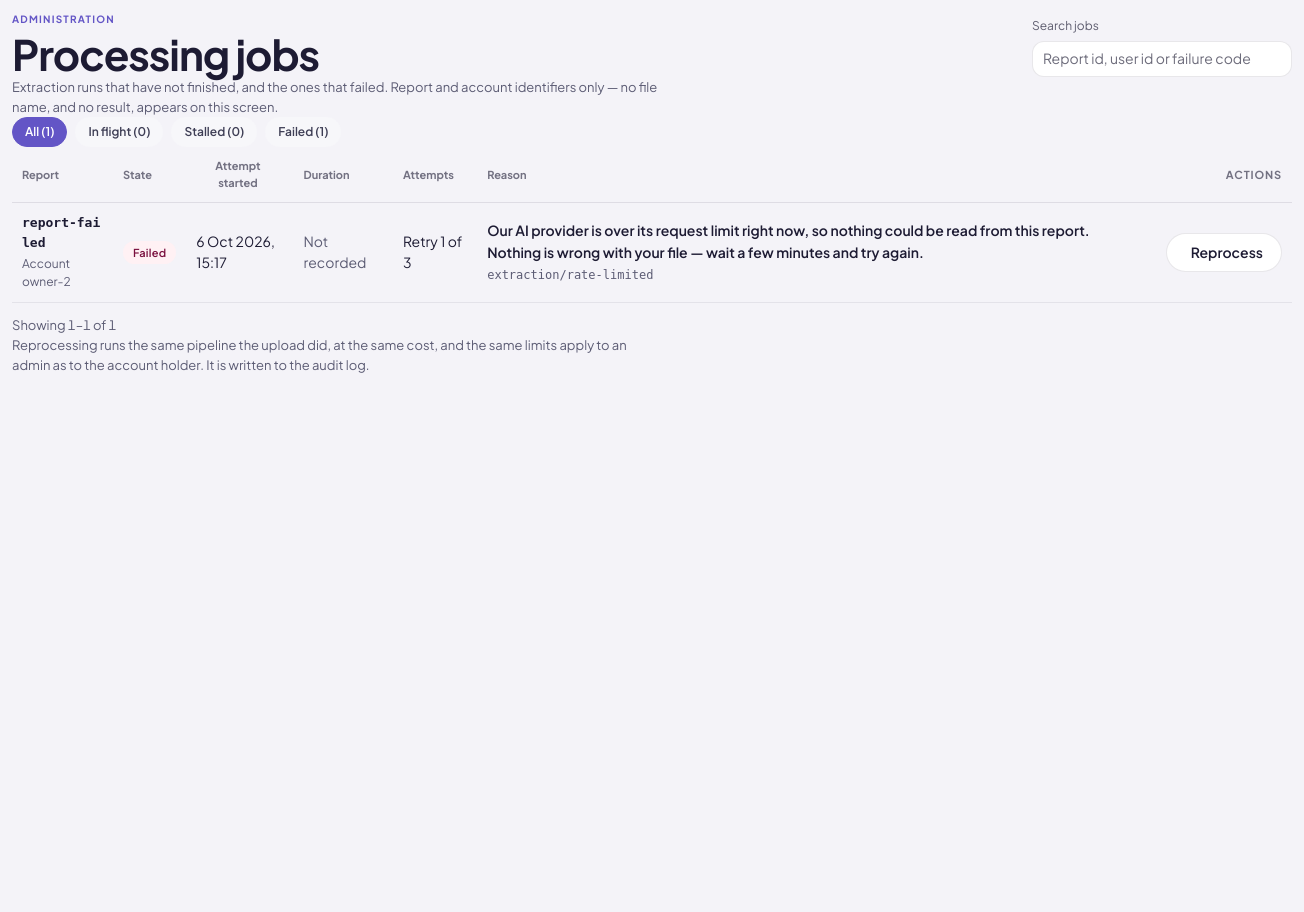
AdminJobs › passes the server’s own refusal through to the operator
Click the button with aria-label "Reprocess report report-failed".
click(1224, 252)  # box left=1166, top=233, right=1282, bottom=272
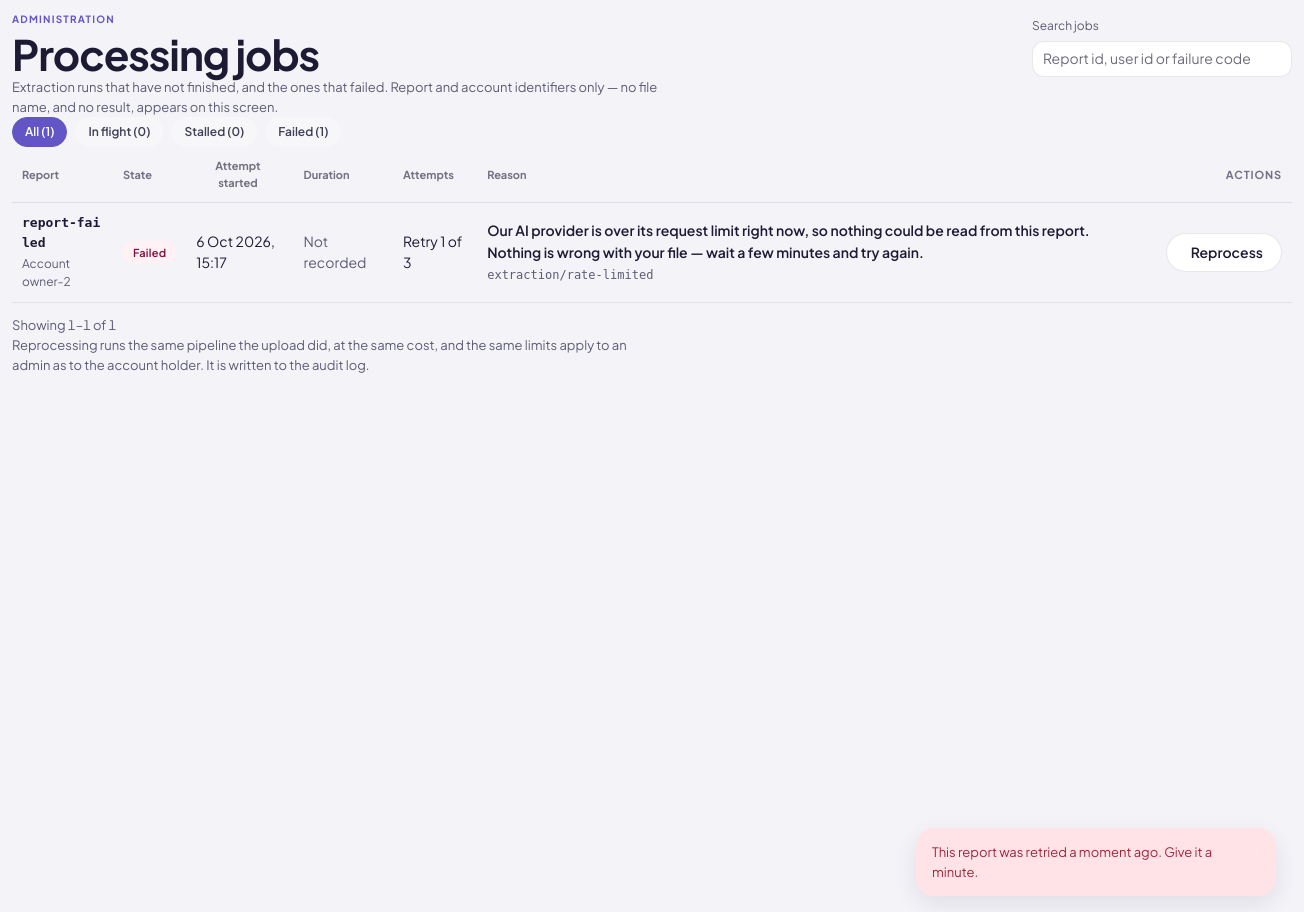
Result: the text "This report was retried a moment ago. Give it a minute." is shown at left=932, top=842, right=1248, bottom=882
